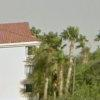Tree: (46, 30, 100, 98)
